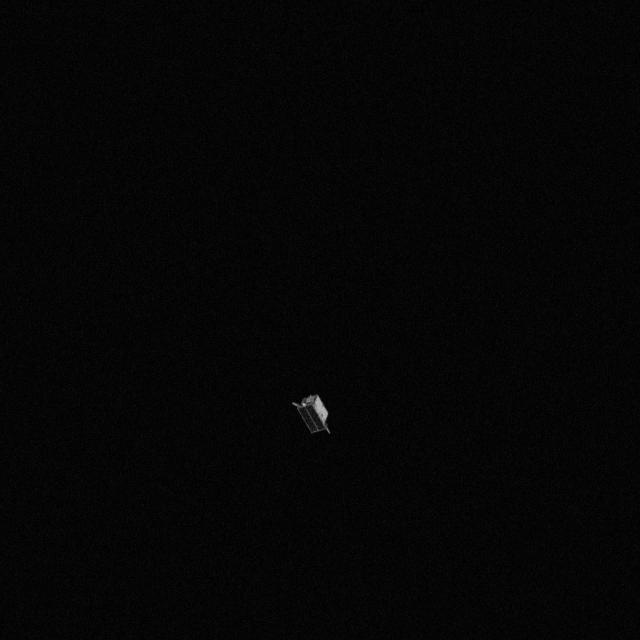medium_debris: (292, 388, 336, 444)
